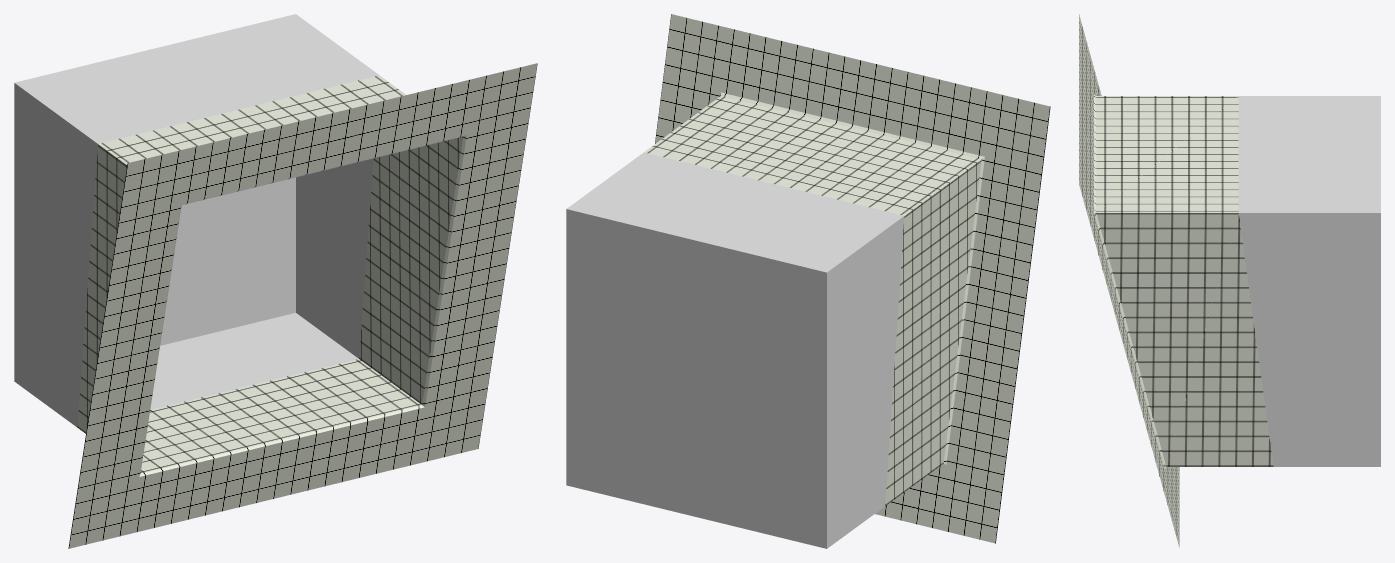
File: Wall_light01.fbx
The picture shows the model from 3 angles, left to right: view 1: azimuth 30°, elevation 25°; view 2: azimuth 150°, elevation 25°; view 3: azimuth 270°, elevation 25°; orthographic projection. The views are drawn at different scales.
Parts seen in each view (by area): view 1: Wall_light01; view 2: Wall_light01; view 3: Wall_light01.
Boxes of the visible parts, <box> form: Wall_light01: <box>14,14,537,548</box>; Wall_light01: <box>566,14,1050,548</box>; Wall_light01: <box>1079,14,1380,547</box>.
Size of the model in its own units: 400 by 400 by 300.
